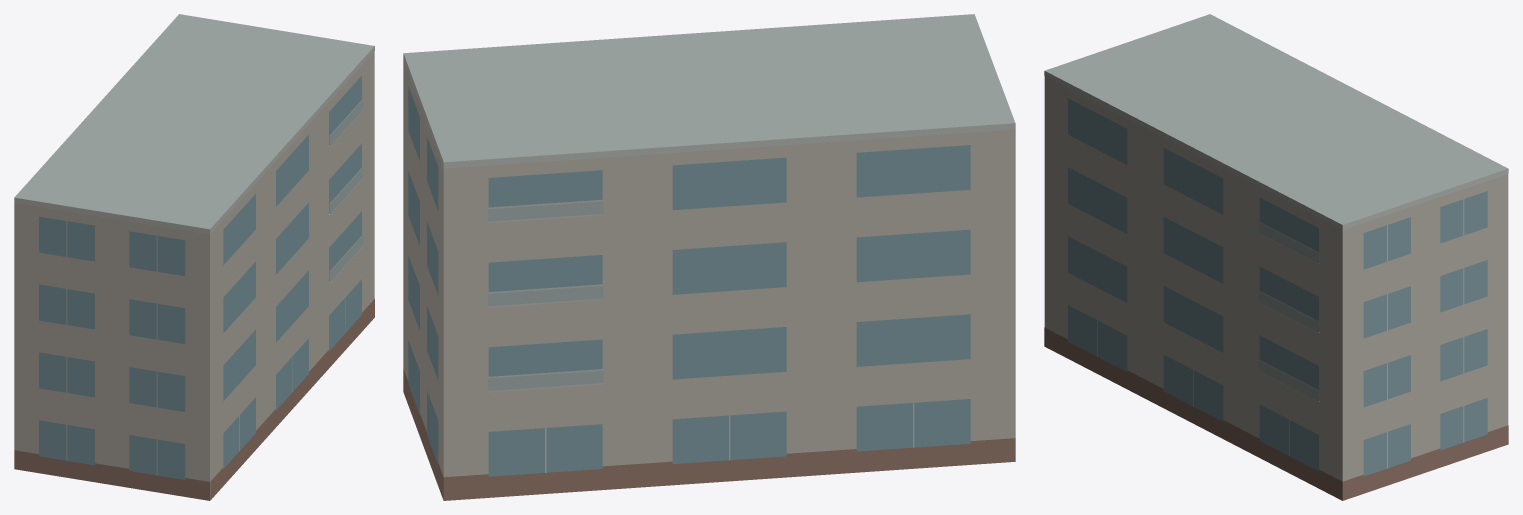
File: survey-upis-33013959.glb
3 renders of one model, left to right at view 1: azimuth 30°, elevation 25°; view 2: azimuth 150°, elevation 25°; view 3: azimuth 270°, elevation 25°, orthographic. The views are drawn at different scales.
Visible parts, largest first — view 1: survey-upis-33013959.tmp; view 2: survey-upis-33013959.tmp; view 3: survey-upis-33013959.tmp.
Boxes of the visible parts, x1,y1,x2,y2 form: survey-upis-33013959.tmp: [14, 14, 374, 500]; survey-upis-33013959.tmp: [403, 14, 1015, 500]; survey-upis-33013959.tmp: [1044, 14, 1508, 500].
Size of the model in its own units: 21.17 by 12.9 by 19.67.
